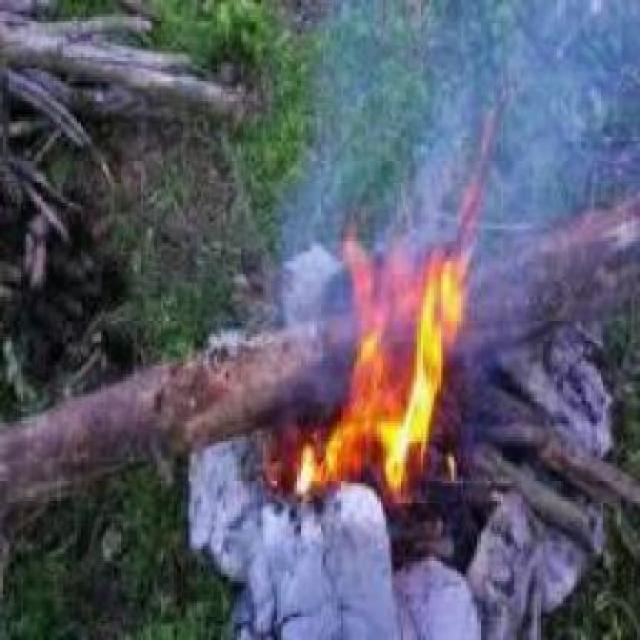fire: (295, 239, 465, 487)
